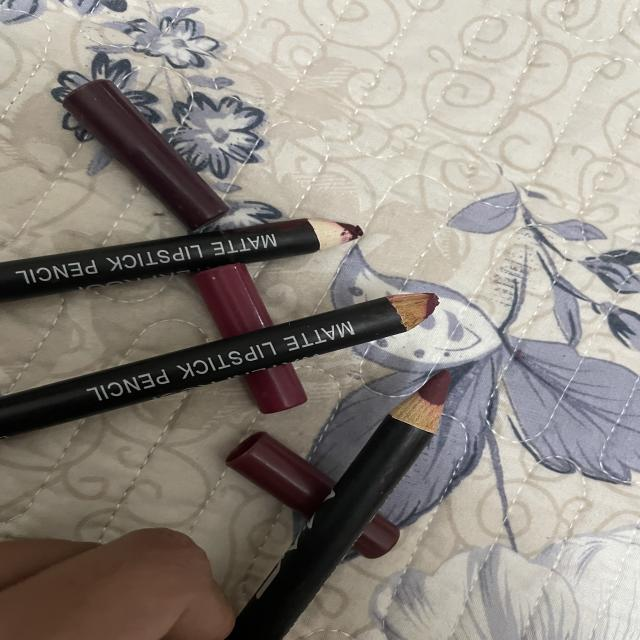lip liner: (0, 194, 465, 640)
